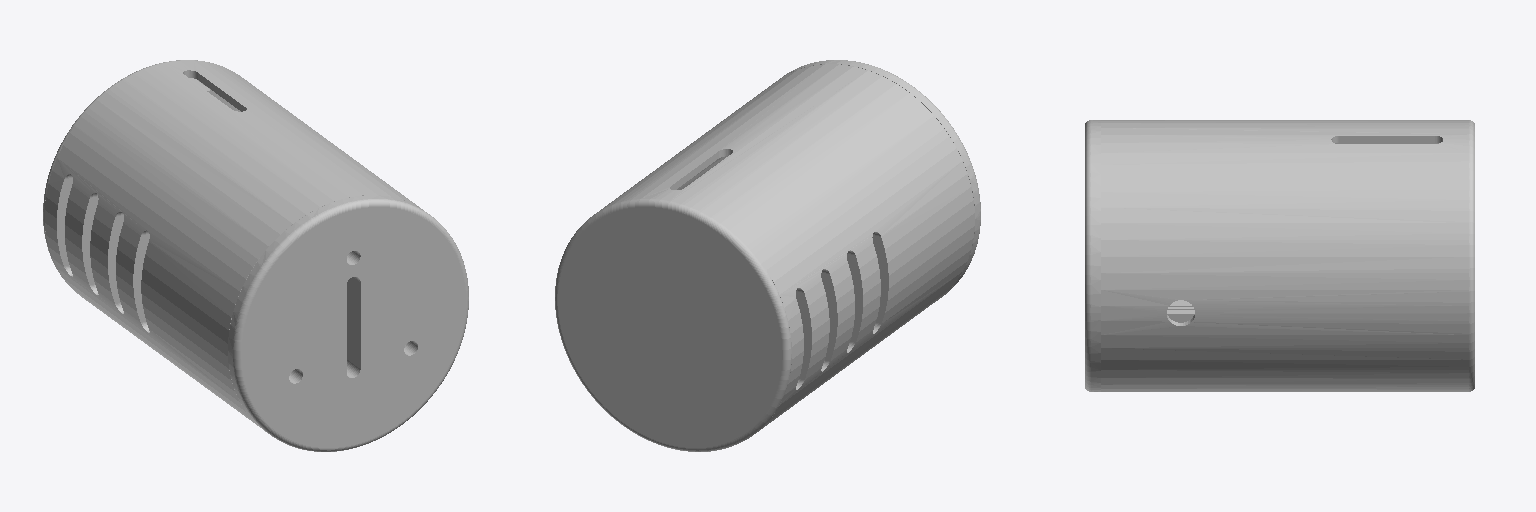
File: Cansat.obj
3 renders of one model, left to right at view 1: azimuth 30°, elevation 25°; view 2: azimuth 150°, elevation 25°; view 3: azimuth 270°, elevation 25°, orthographic.
Size of the model in its own units: 85.06 by 85.04 by 122.